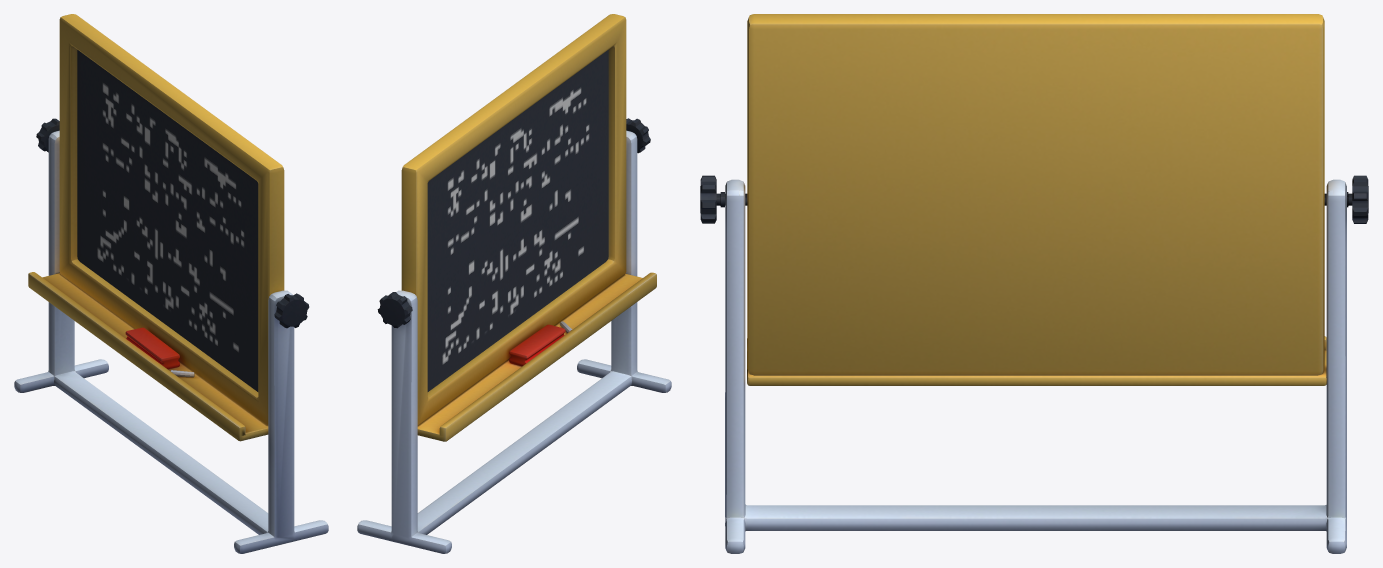
The model's file is blackboard.gltf.
The picture shows the model from 3 angles, left to right: view 1: azimuth 30°, elevation 25°; view 2: azimuth 150°, elevation 25°; view 3: azimuth 270°, elevation 25°; orthographic projection. The views are drawn at different scales.
Visible parts, largest first — view 1: blackboard; view 2: blackboard; view 3: blackboard.
Boxes of the visible parts, box(x1,y1,x2,y2) form: blackboard: box(14, 14, 328, 553); blackboard: box(357, 14, 671, 553); blackboard: box(700, 14, 1368, 553).
Bounding box in the file's own units: 0.0809 × 0.3157 × 0.376.
1 material, 1 textured.
